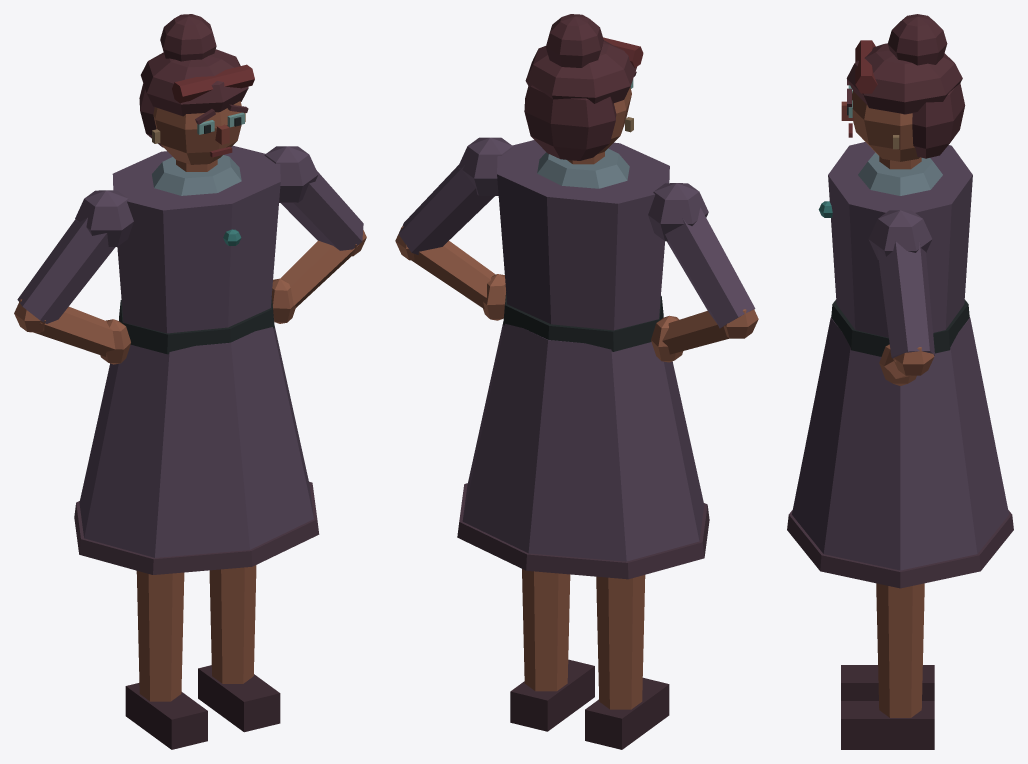
The model's file is mama.glb.
3 views of the same model, side by side, from view 1: azimuth 30°, elevation 25°; view 2: azimuth 150°, elevation 25°; view 3: azimuth 270°, elevation 25° (orthographic). The views are drawn at different scales.
Visible parts, largest first — view 1: Corp, Cap; view 2: Corp, Cap; view 3: Corp, Cap.
Part boxes in pixels (left/top/right/bottom): Corp: left=14, top=145, right=366, bottom=749; Cap: left=139, top=14, right=254, bottom=164; Corp: left=395, top=137, right=758, bottom=749; Cap: left=524, top=14, right=643, bottom=160; Corp: left=787, top=142, right=1013, bottom=749; Cap: left=841, top=14, right=965, bottom=161.
Bounding box in the file's own units: 0.9466 × 1.83 × 0.533.
